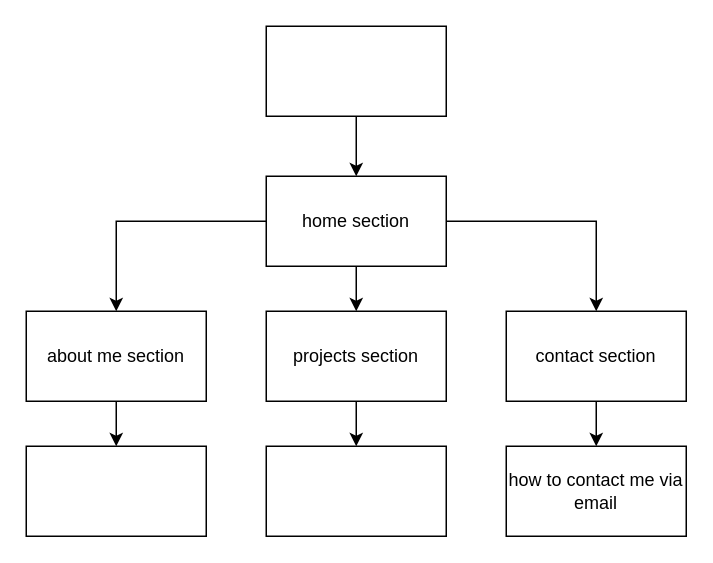
Some shapes in this 713 by 563 pixel diagram are drawn without their labels. Here are the shapes that lost their labels. From the top down, the centre of each, then its label:
pixel 355 70: index.html
pixel 115 490: picture of me with a short description of myself
pixel 355 490: description of the projects I've done and the ones I plan on working on
